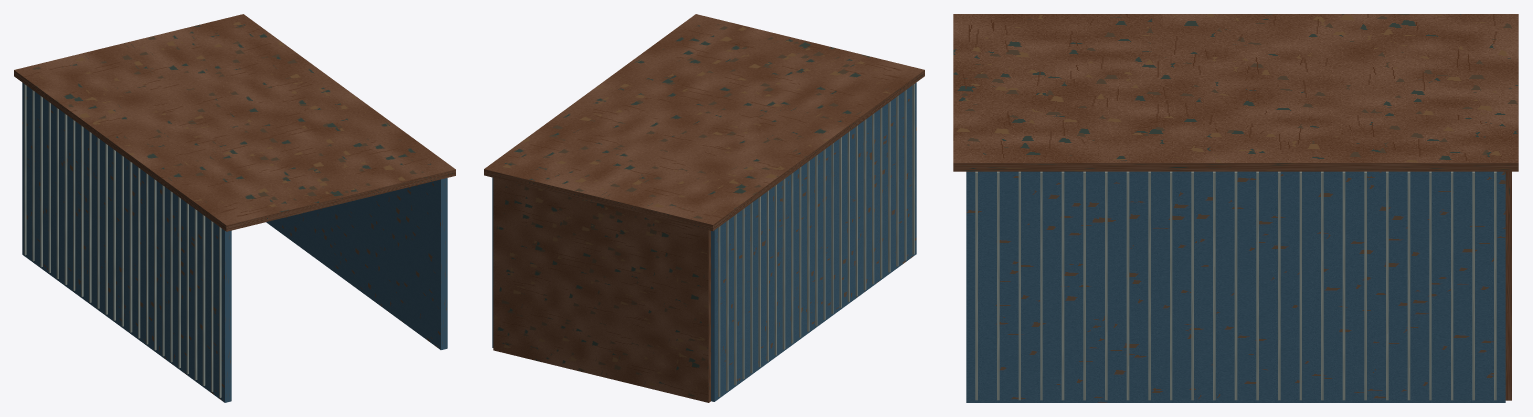
Rendered from CIS_GarageShell.glb.
3 views of the same model, side by side, from view 1: azimuth 30°, elevation 25°; view 2: azimuth 150°, elevation 25°; view 3: azimuth 270°, elevation 25° (orthographic). The views are drawn at different scales.
Visible parts, largest first — view 1: CIS_GarageShell; view 2: CIS_GarageShell; view 3: CIS_GarageShell.
Part boxes in pixels (x1,y1,x2,y2): CIS_GarageShell: (14, 14, 455, 402); CIS_GarageShell: (484, 14, 924, 402); CIS_GarageShell: (953, 14, 1518, 402).
Size of the model in its own units: 3.4 by 2.58 by 5.45.
Materials: 3 (3 with a texture image).
